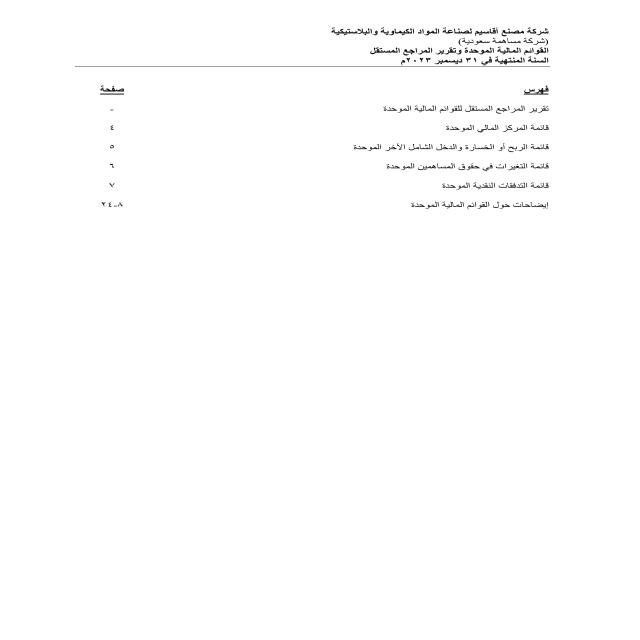other: (60, 73, 550, 226)
